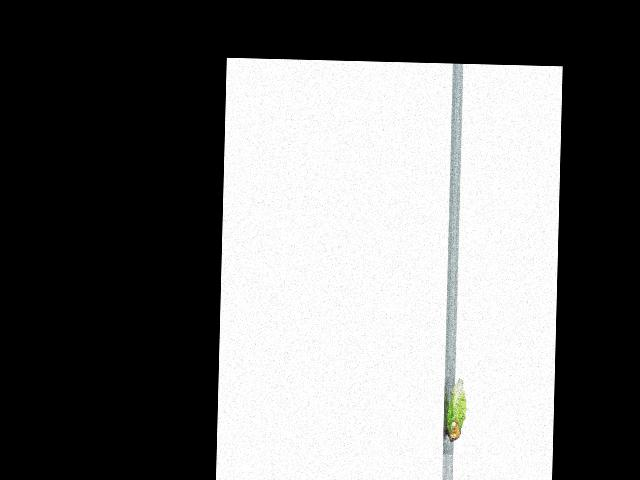lettuce: (442, 376, 469, 445)
